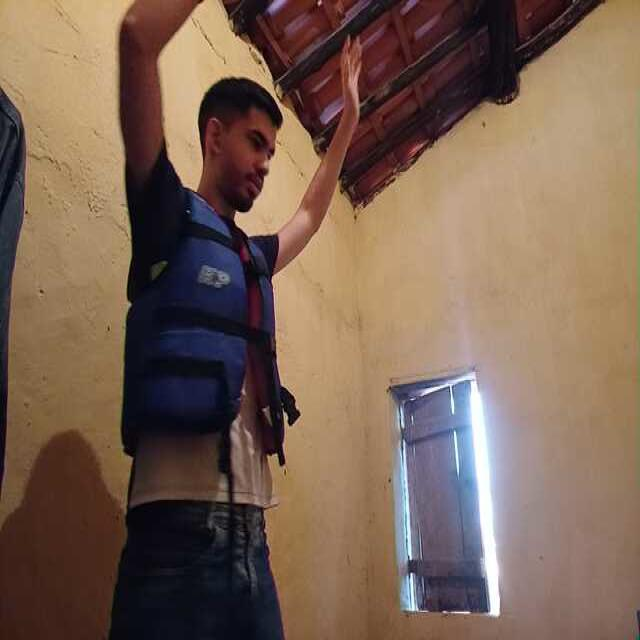colete: (129, 202, 292, 462)
pessoa: (118, 0, 363, 640)
